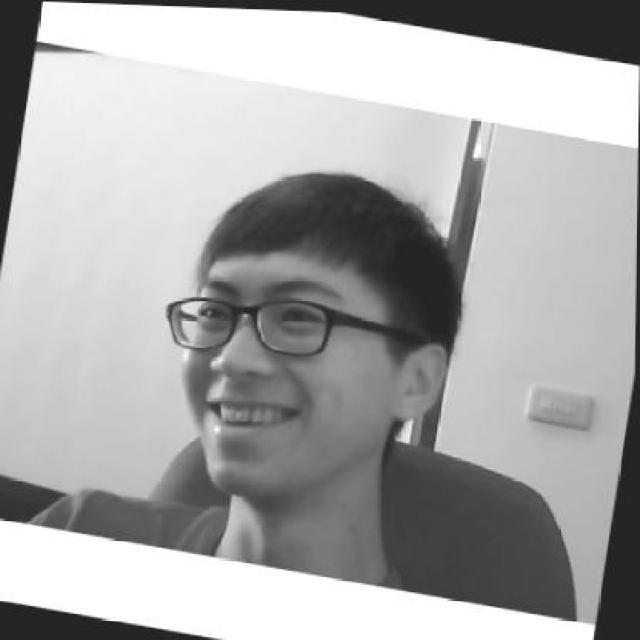attentif: (140, 142, 477, 518)
